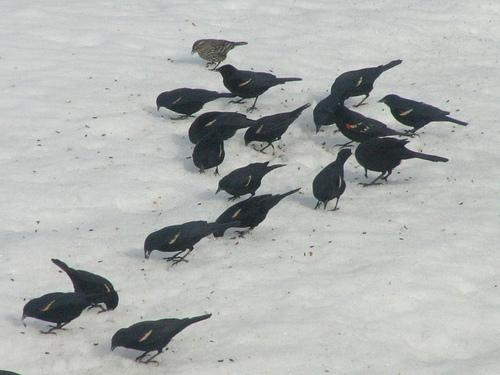bird: (108, 312, 213, 367), (11, 288, 122, 337), (207, 188, 305, 239), (143, 218, 243, 267), (359, 139, 450, 186), (51, 257, 123, 316), (380, 91, 468, 135), (238, 103, 312, 154), (208, 66, 303, 101), (327, 58, 403, 101), (212, 159, 289, 201), (328, 99, 403, 137), (311, 146, 354, 212), (304, 84, 357, 136), (151, 87, 237, 119), (185, 122, 234, 172), (187, 36, 249, 67)
